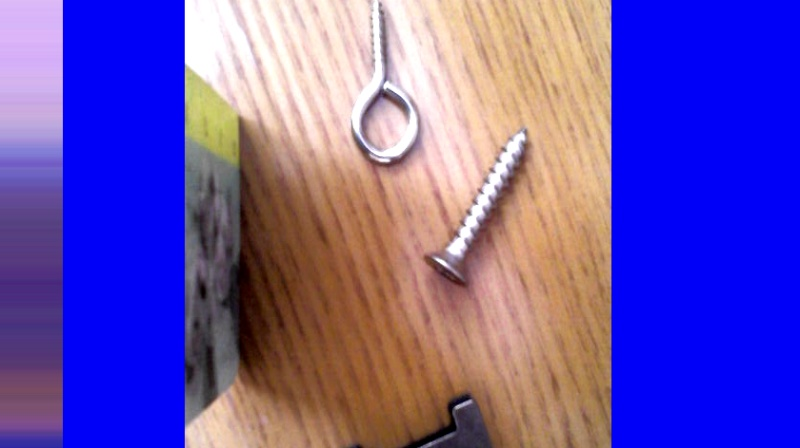O001: (346, 0, 421, 166)
O002: (330, 391, 509, 447)
S001: (420, 117, 533, 292)
